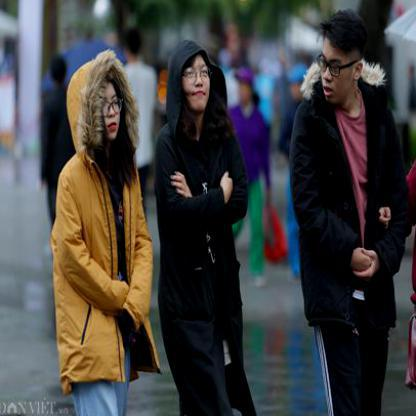person: (294, 8, 404, 415), (157, 46, 249, 415), (56, 57, 140, 415)
